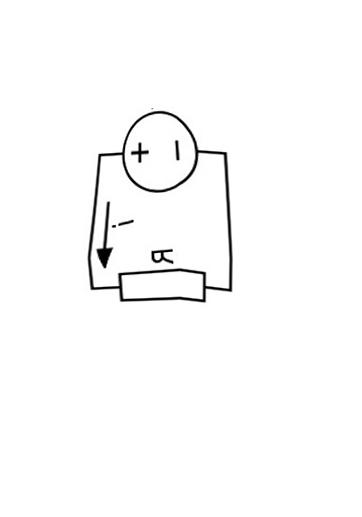Battery: (106, 97, 209, 201)
